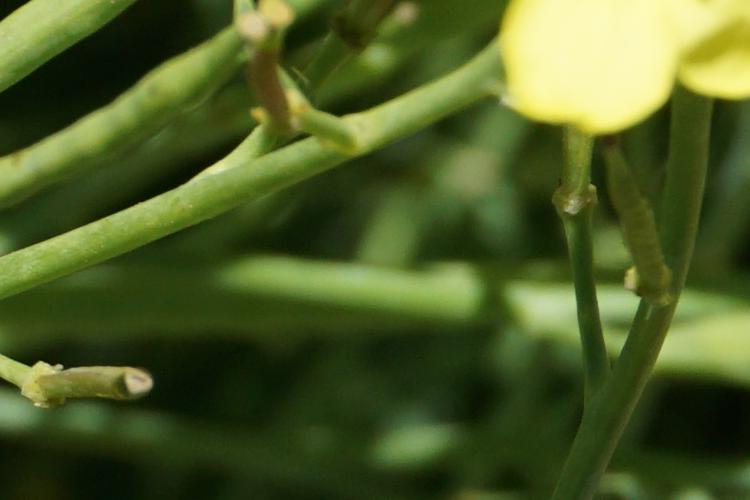pod: (20, 345, 176, 445)
